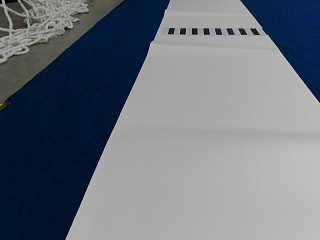crosswalk: (166, 26, 259, 35)
